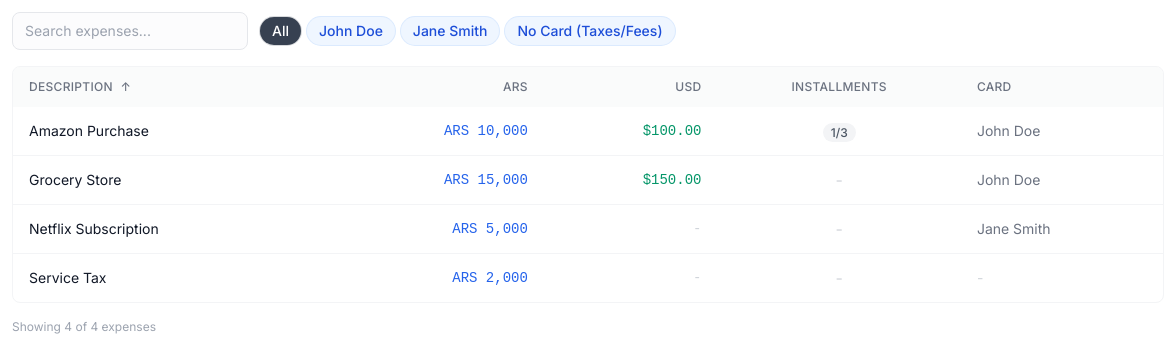
Test: ExpenseTable Component › Card Filtering › should filter expenses by card
This screenshot has width=1164, height=351.
Click the button "John Doe": point(351, 31) [307,17,395,45]
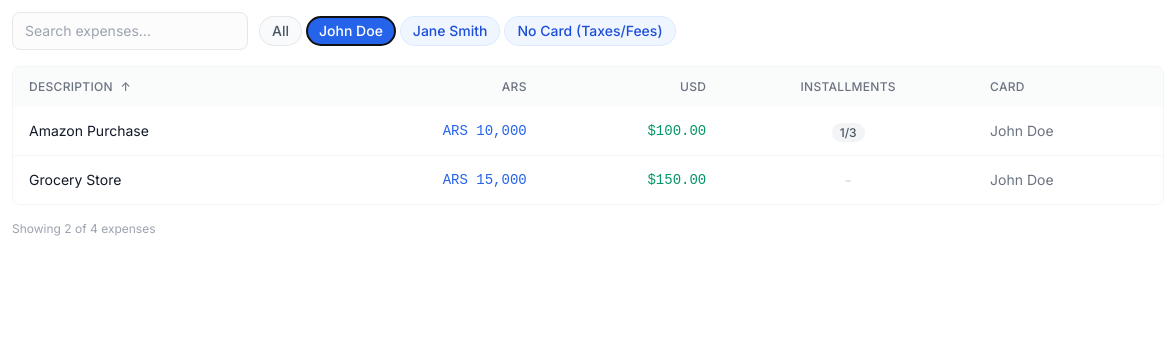
Expected: the text "Amazon Purchase" is shown, [13,107,313,156]
Now the text "Netflix Subscription" is gone
Now the text "Showing 2 of 4 expenses" is shown, box [12,221,156,236]
